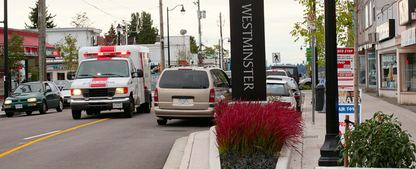ambulance: (70, 44, 153, 118)
